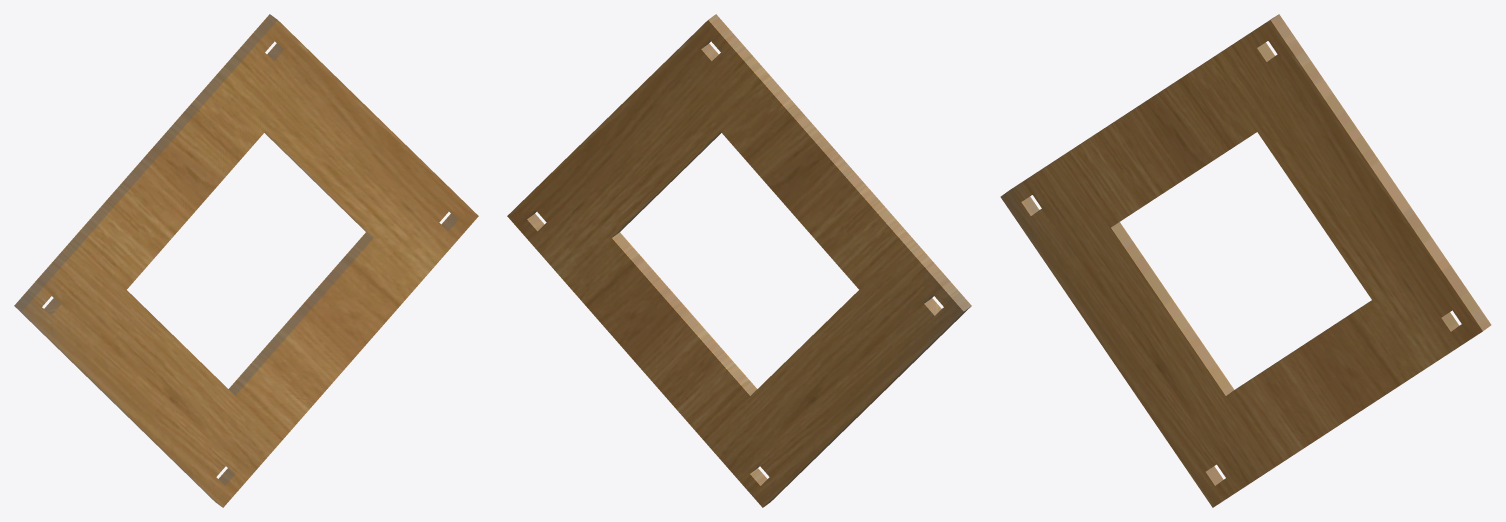
3 renders of one model, left to right at view 1: azimuth 30°, elevation 25°; view 2: azimuth 150°, elevation 25°; view 3: azimuth 330°, elevation 25°, orthographic. The views are drawn at different scales.
Visible parts, largest first — view 1: node_id3; view 2: node_id3; view 3: node_id3.
Boxes of the visible parts, x1,y1,x2,y2 form: node_id3: (14, 14, 478, 507); node_id3: (507, 14, 971, 507); node_id3: (1000, 14, 1491, 507).
Size of the model in its own units: 0.6942 by 0.6896 by 0.0213.
1 material, 1 textured.
